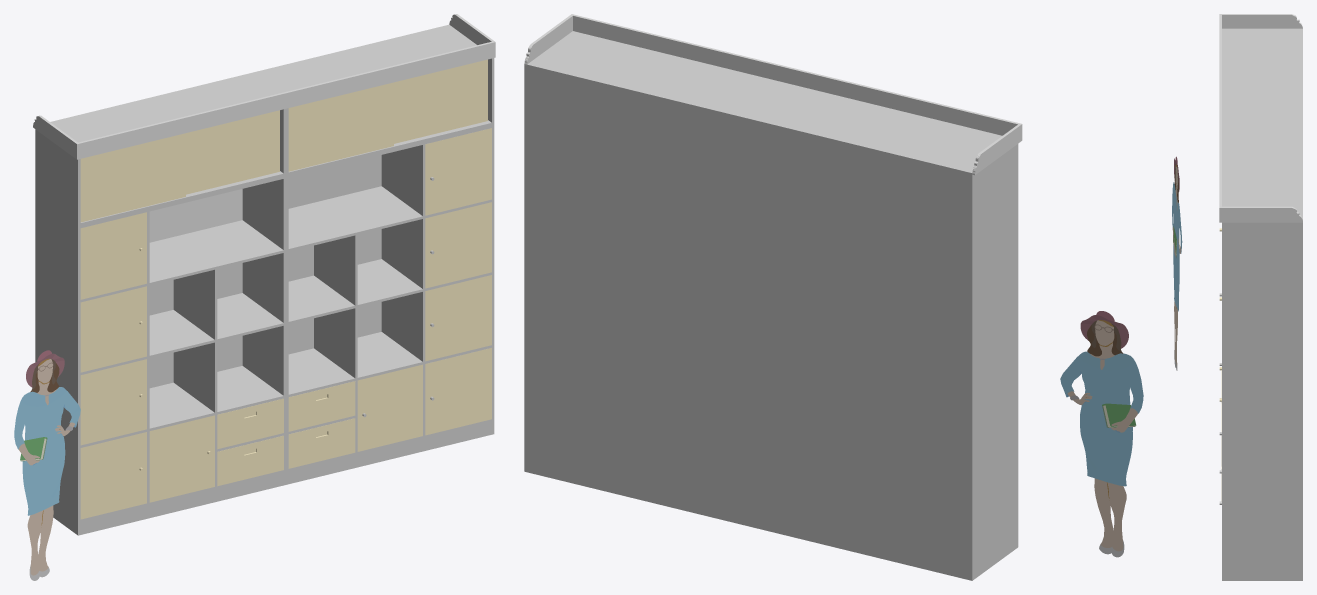
3 renders of one model, left to right at view 1: azimuth 30°, elevation 25°; view 2: azimuth 150°, elevation 25°; view 3: azimuth 270°, elevation 25°, orthographic. The views are drawn at different scales.
Parts seen in each view (by area): view 1: 3DGeom-20, 3DGeom-42, 3DGeom-19, 3DGeom-28, 3DGeom-29, 3DGeom-27, 3DGeom-26, 3DGeom-45, 3DGeom-41, 3DGeom-36, 3DGeom-44, 3DGeom-33 (+13 smaller); view 2: 3DGeom-20, 3DGeom-42, 3DGeom-28, 3DGeom-19, 3DGeom-6, 3DGeom-7; view 3: 3DGeom-20, 3DGeom-28, 3DGeom-42, 3DGeom-19, 3DGeom-6, 3DGeom-7.
Boxes of the visible parts, bbox=[...] form: 3DGeom-20: bbox=[35, 125, 494, 535]; 3DGeom-42: bbox=[35, 75, 286, 226]; 3DGeom-19: bbox=[33, 14, 495, 159]; 3DGeom-28: bbox=[244, 24, 494, 175]; 3DGeom-29: bbox=[80, 133, 185, 222]; 3DGeom-27: bbox=[288, 82, 393, 171]; 3DGeom-26: bbox=[394, 59, 487, 143]; 3DGeom-45: bbox=[186, 110, 279, 194]; 3DGeom-41: bbox=[80, 432, 146, 519]; 3DGeom-36: bbox=[80, 212, 146, 299]; 3DGeom-44: bbox=[425, 348, 491, 435]; 3DGeom-33: bbox=[425, 128, 491, 215]; 3DGeom-20: bbox=[524, 139, 1018, 580]; 3DGeom-42: bbox=[748, 85, 1018, 247]; 3DGeom-28: bbox=[524, 31, 793, 193]; 3DGeom-19: bbox=[524, 14, 1022, 175]; 3DGeom-6: bbox=[1060, 356, 1143, 486]; 3DGeom-7: bbox=[1067, 320, 1137, 551]; 3DGeom-20: bbox=[1222, 287, 1302, 580]; 3DGeom-28: bbox=[1222, 125, 1302, 287]; 3DGeom-42: bbox=[1222, 28, 1302, 124]; 3DGeom-19: bbox=[1219, 14, 1302, 222]; 3DGeom-6: bbox=[1172, 187, 1182, 311]; 3DGeom-7: bbox=[1172, 166, 1181, 365].
Size of the model in its own units: 4.11 by 3.13 by 0.9695.
